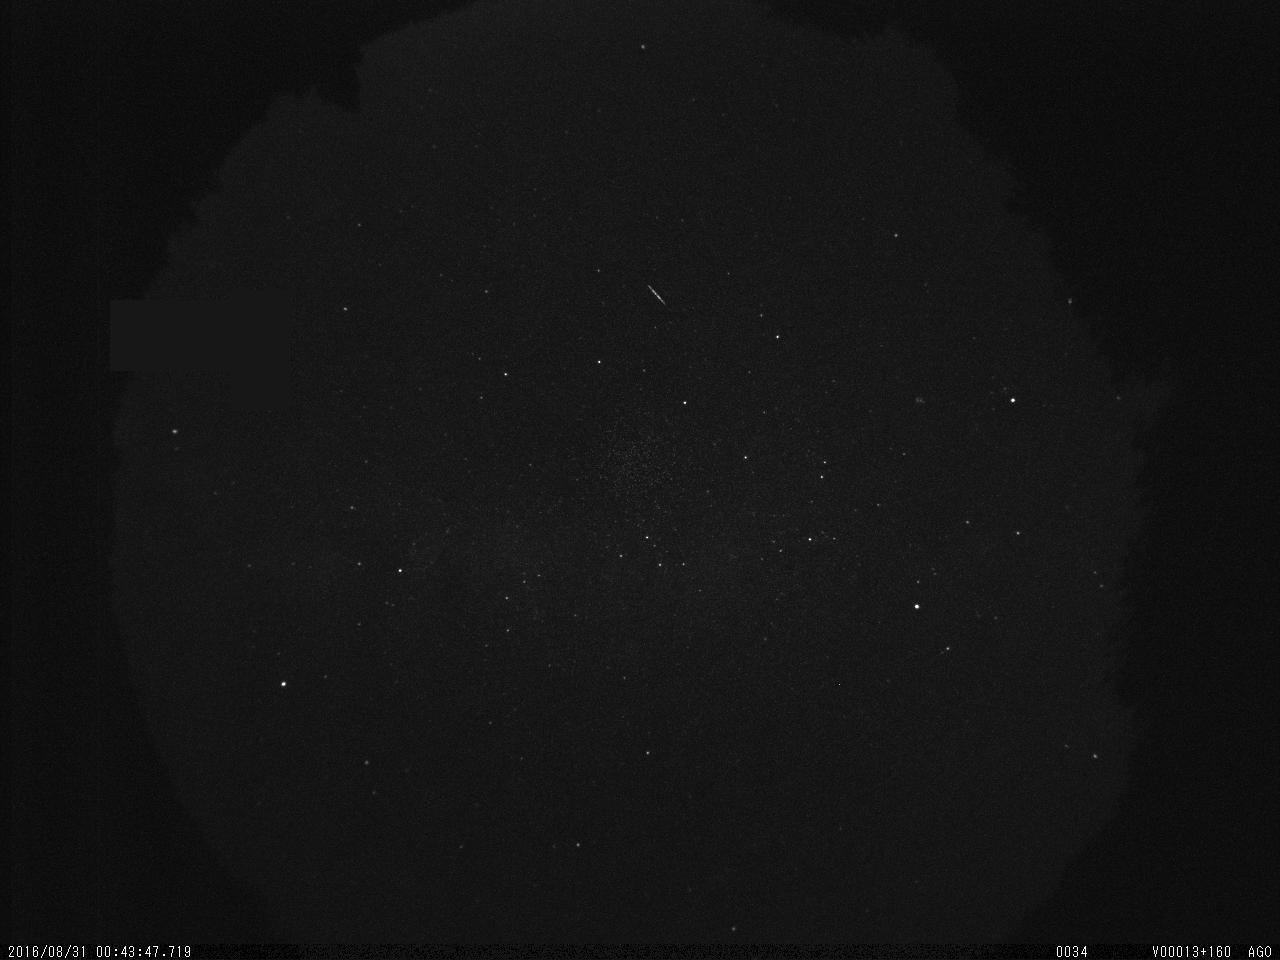meteor: (643, 278, 676, 313)
